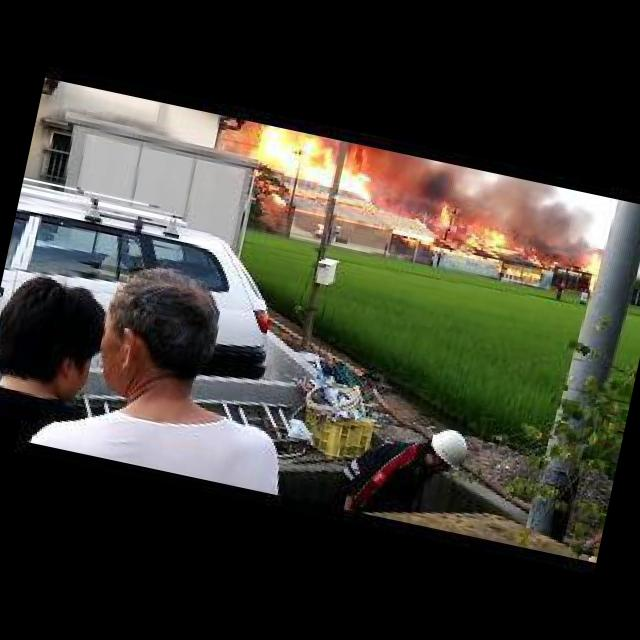Fire: (244, 121, 382, 203), (402, 190, 522, 260)
Smoke: (392, 150, 600, 258)
